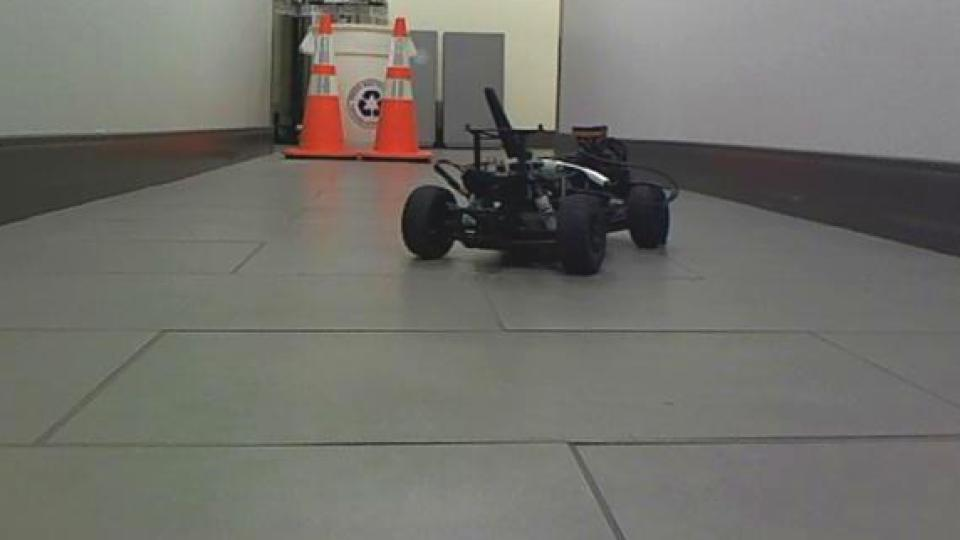car: (398, 85, 683, 279)
